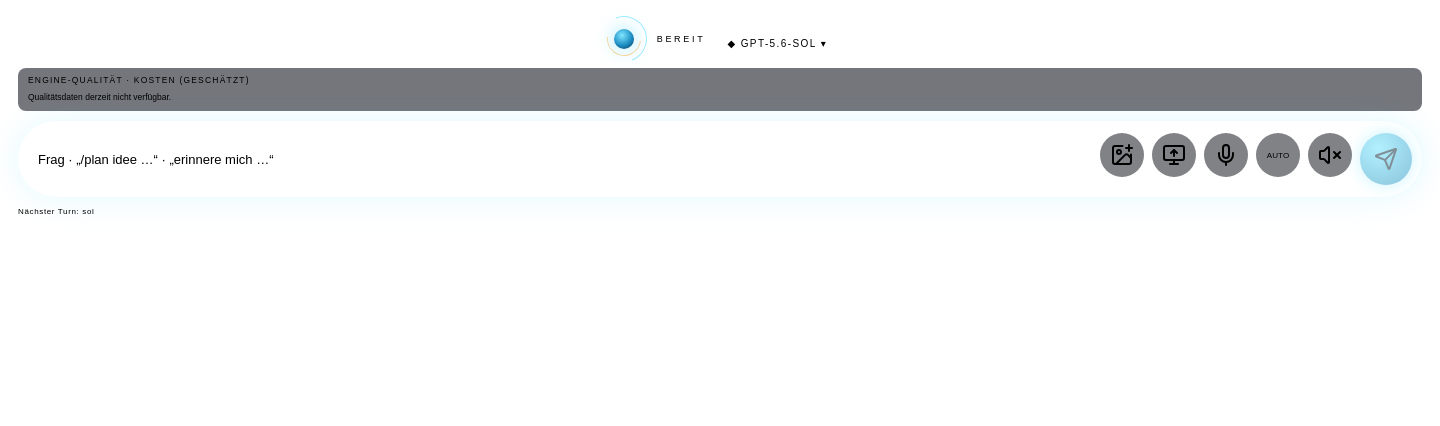
Test: JarvisChat G2b Controller-Naht › ohne Naht-Props: Senden und Bubble wie bisher (Default-Pfad)
The width and height of the screenshot is (1440, 426).
Type "default pfad" into the field named "Nachricht an Jarvis" at (564, 159), box [38,137,1090,181]
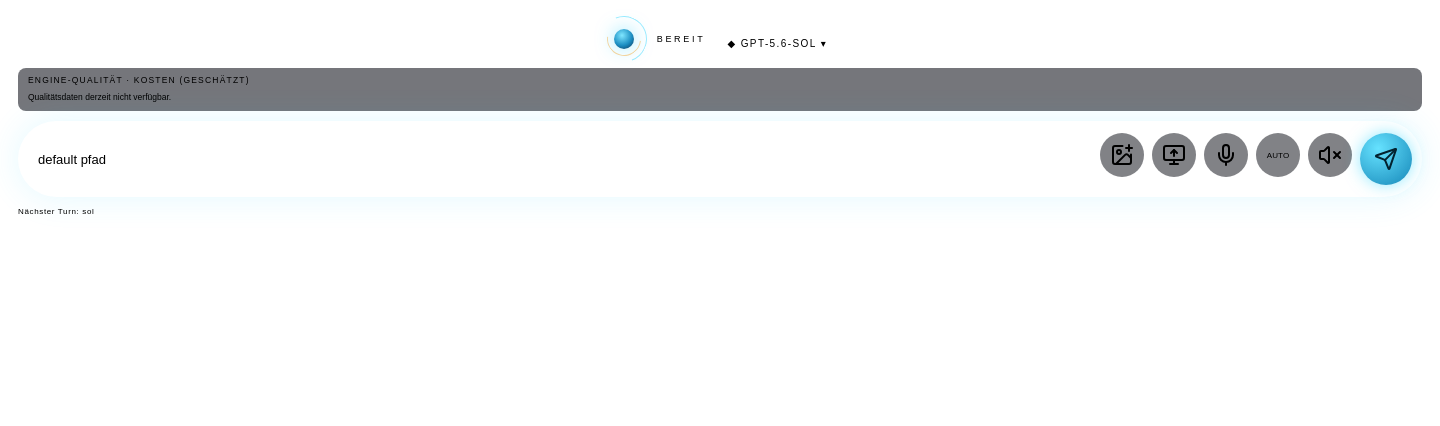
Click the button named "Nachricht senden" at (1386, 159), box [1360,133,1412,185]
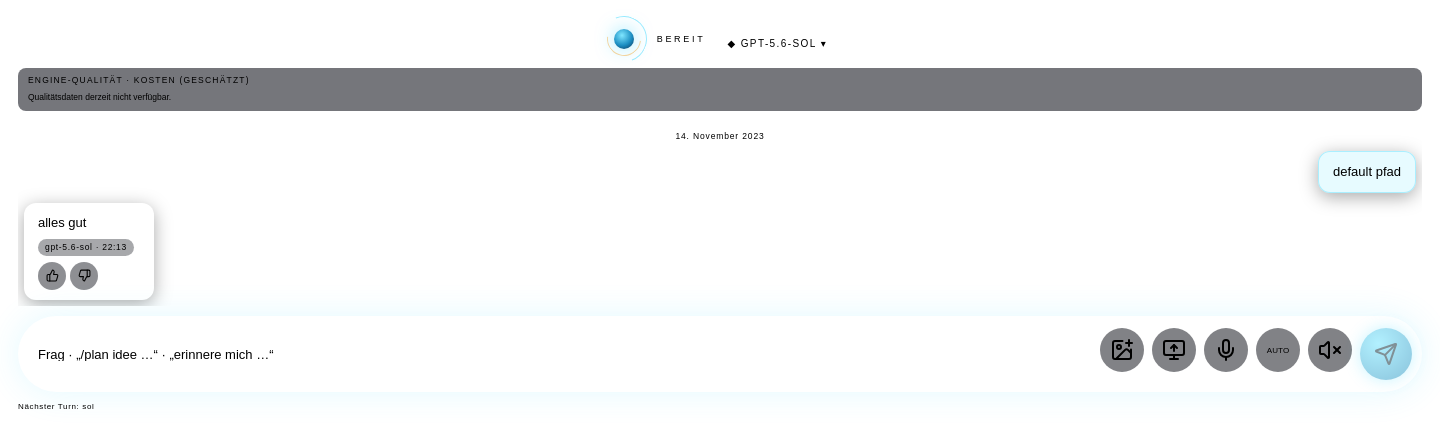
Check: the text "alles gut" is shown, box [38,214,86,230]
